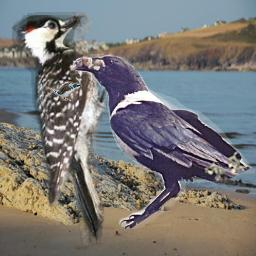Crow: (70, 54, 256, 229)
Swallow: (45, 81, 82, 101)
Woodpecker: (9, 12, 120, 245)
